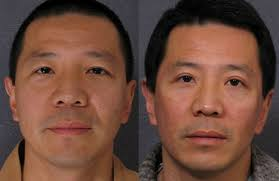asian_male: (151, 19, 264, 167)
